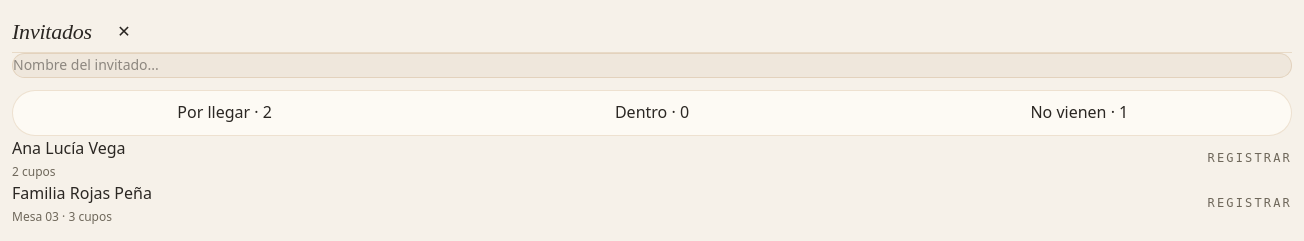
Scenario: la lista de la puerta (9 oct: el portero ve quién falta y quién entró, sin poder editar nada) › «No vienen» enseña a quien respondió que no
Click the tab "No vienen · 1" at (1079, 113), box [868,91,1291,135]
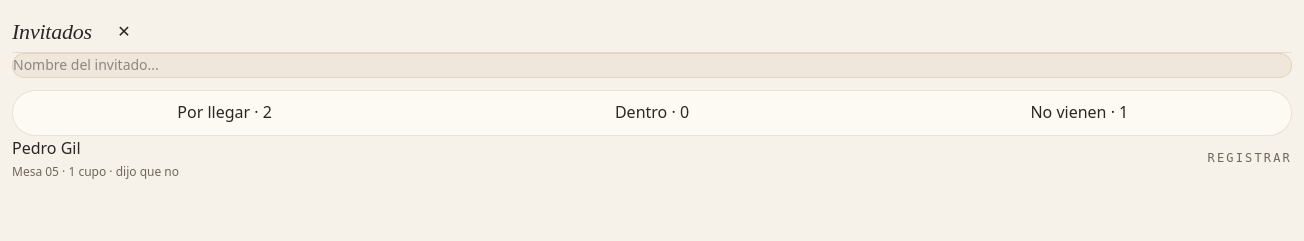
Check: the text "Pedro Gil" is shown, box [12,137,81,159]
